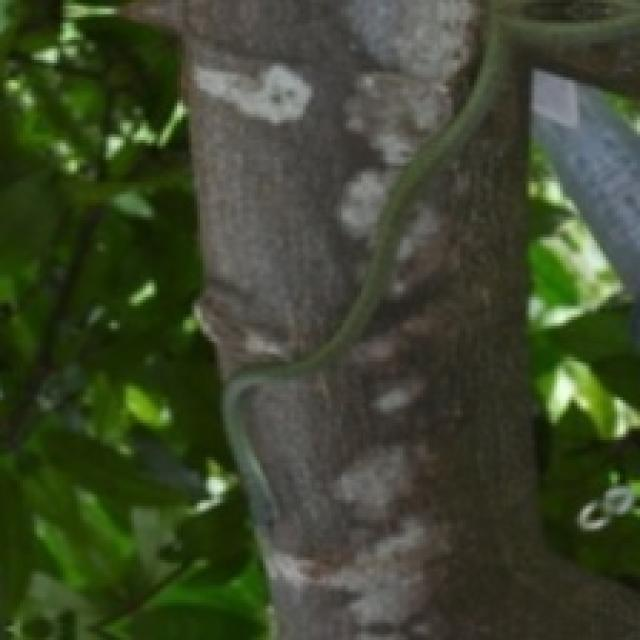paradise tree snake: (222, 4, 640, 426)
